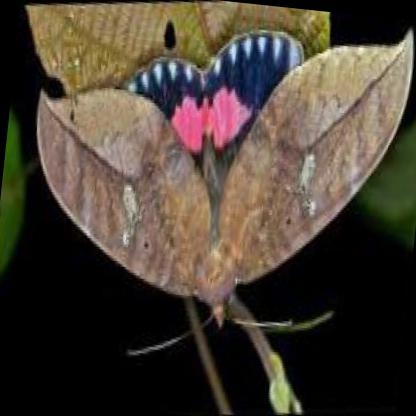fruit sucking moth: (37, 32, 411, 327)
